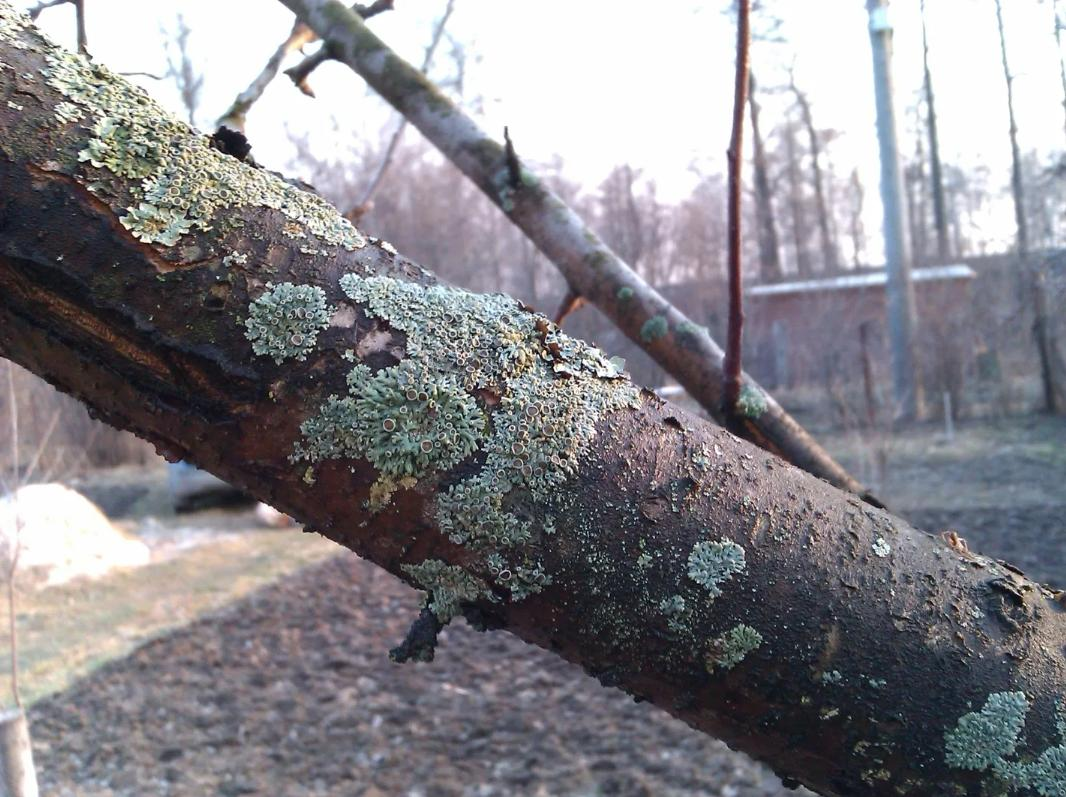lichen: (296, 273, 637, 547), (45, 56, 365, 249), (244, 282, 332, 363), (946, 692, 1028, 769), (402, 559, 488, 623), (998, 742, 1065, 796), (688, 541, 745, 597), (705, 624, 762, 671), (508, 565, 551, 599)
